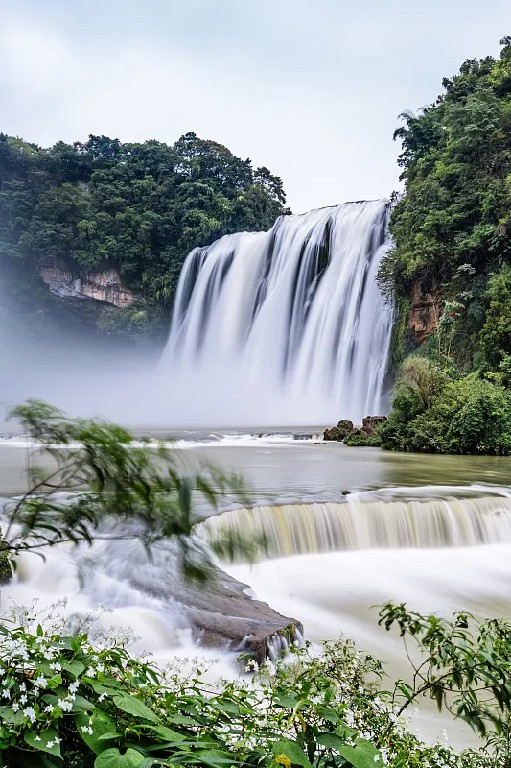Huangguoshu: (147, 197, 396, 425)
